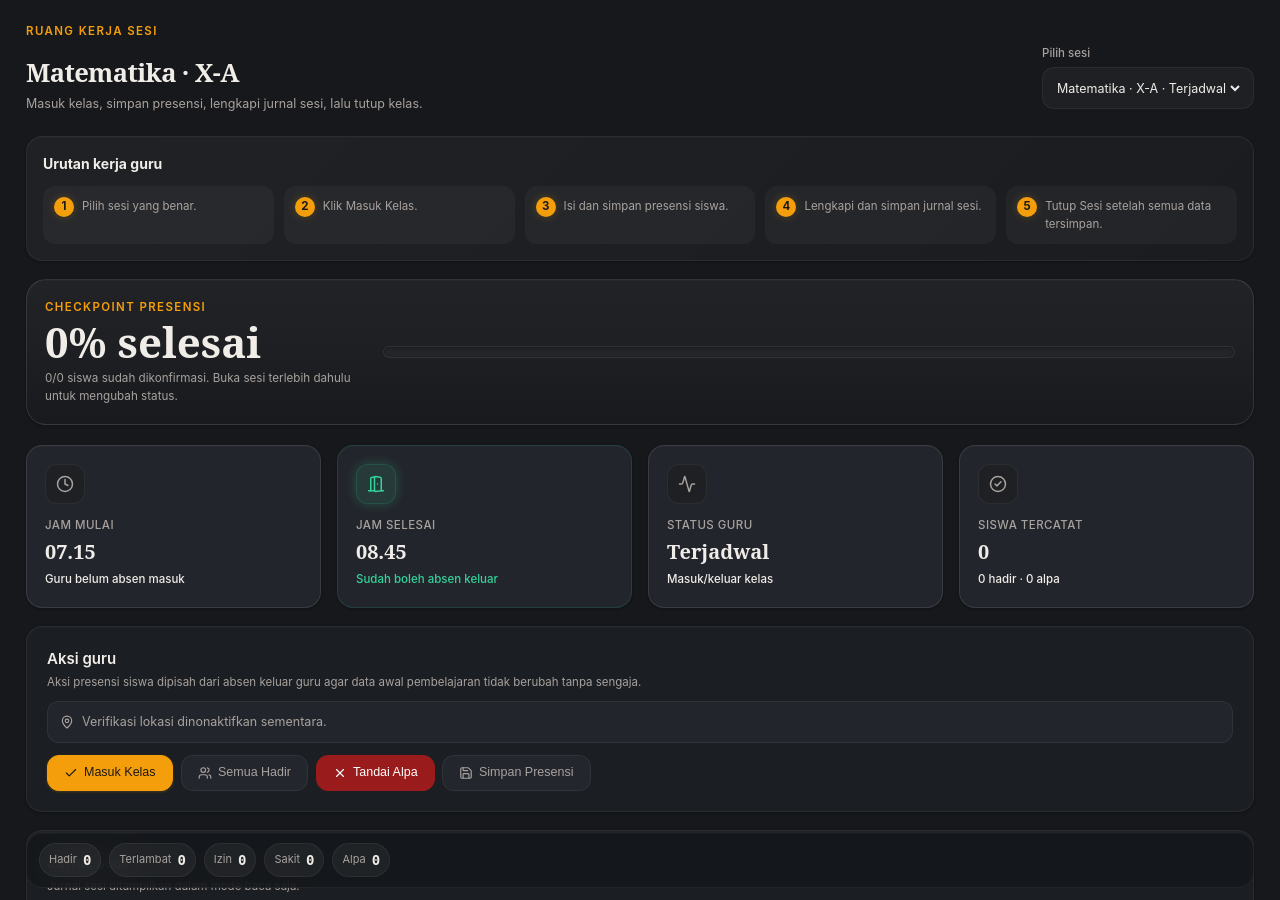
guru session journal workspace › menampilkan jarak aman saat geofence menolak lokasi
The image size is (1280, 900).
Click the button "Masuk Kelas". click: [110, 773]
box: left=47, top=755, right=173, bottom=791
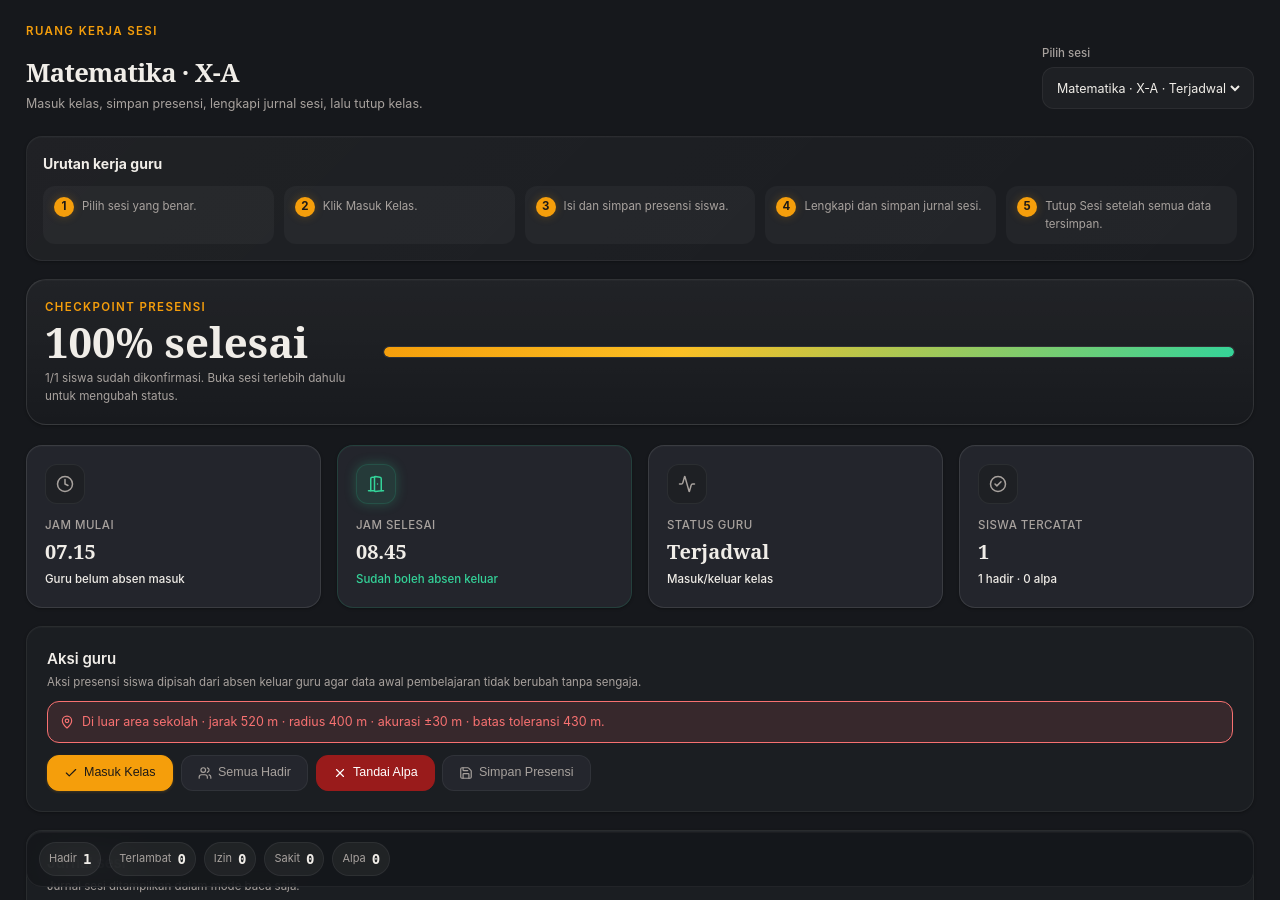
Expected: the text "Di luar area sekolah · jarak 520 m · radius 400 m · akurasi ±30 m · batas toleransi 430 m" is shown, left=82, top=714, right=605, bottom=729
